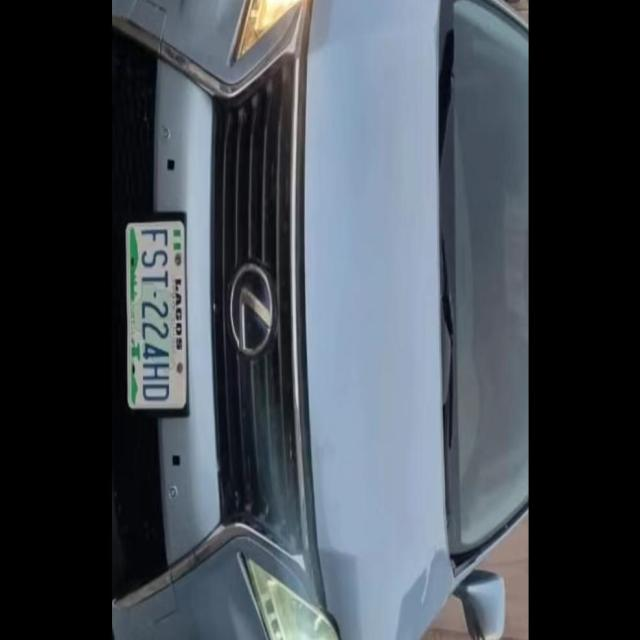Nigerian License Plate - vdataset benjamin-daria: (122, 215, 190, 415)
